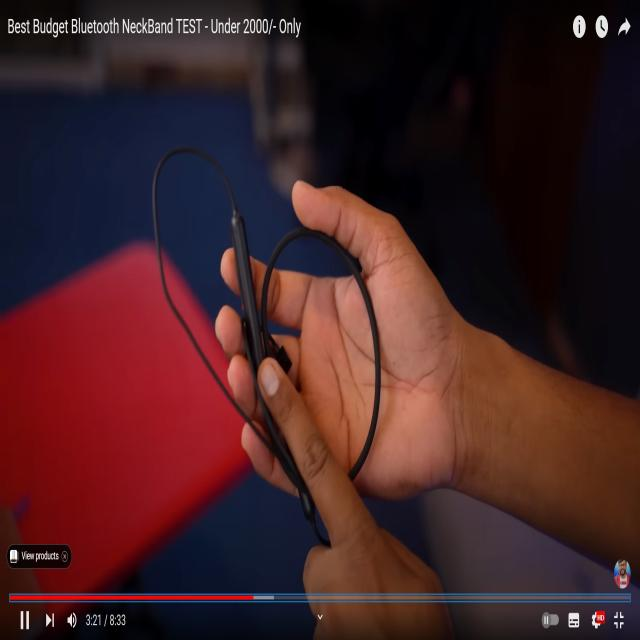Neckband: (152, 142, 382, 550)
